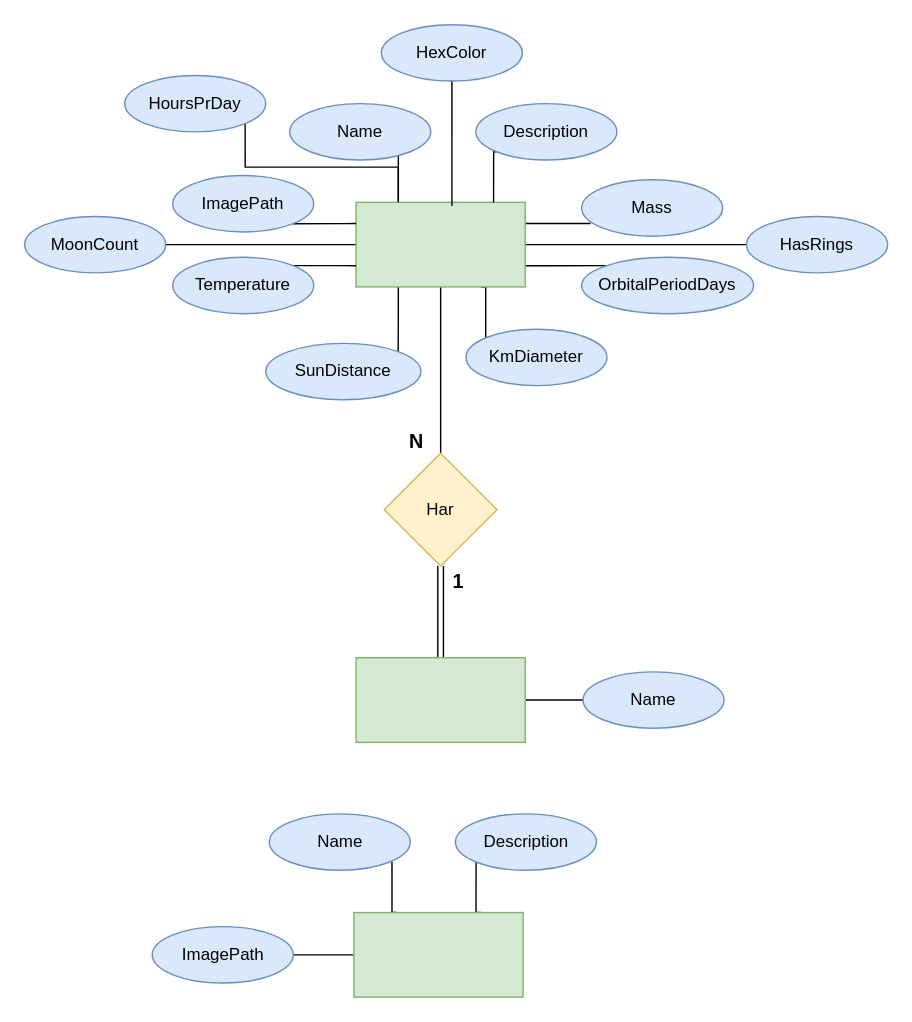
Image size: 912x1022. Some labels were removed from this diagram. Here are the shapes that lost their labels. From the top down, the box of each, then its label:
(355, 201, 525, 287): Planet
(355, 656, 525, 742): PlanetType
(352, 911, 523, 997): CelestialElement
